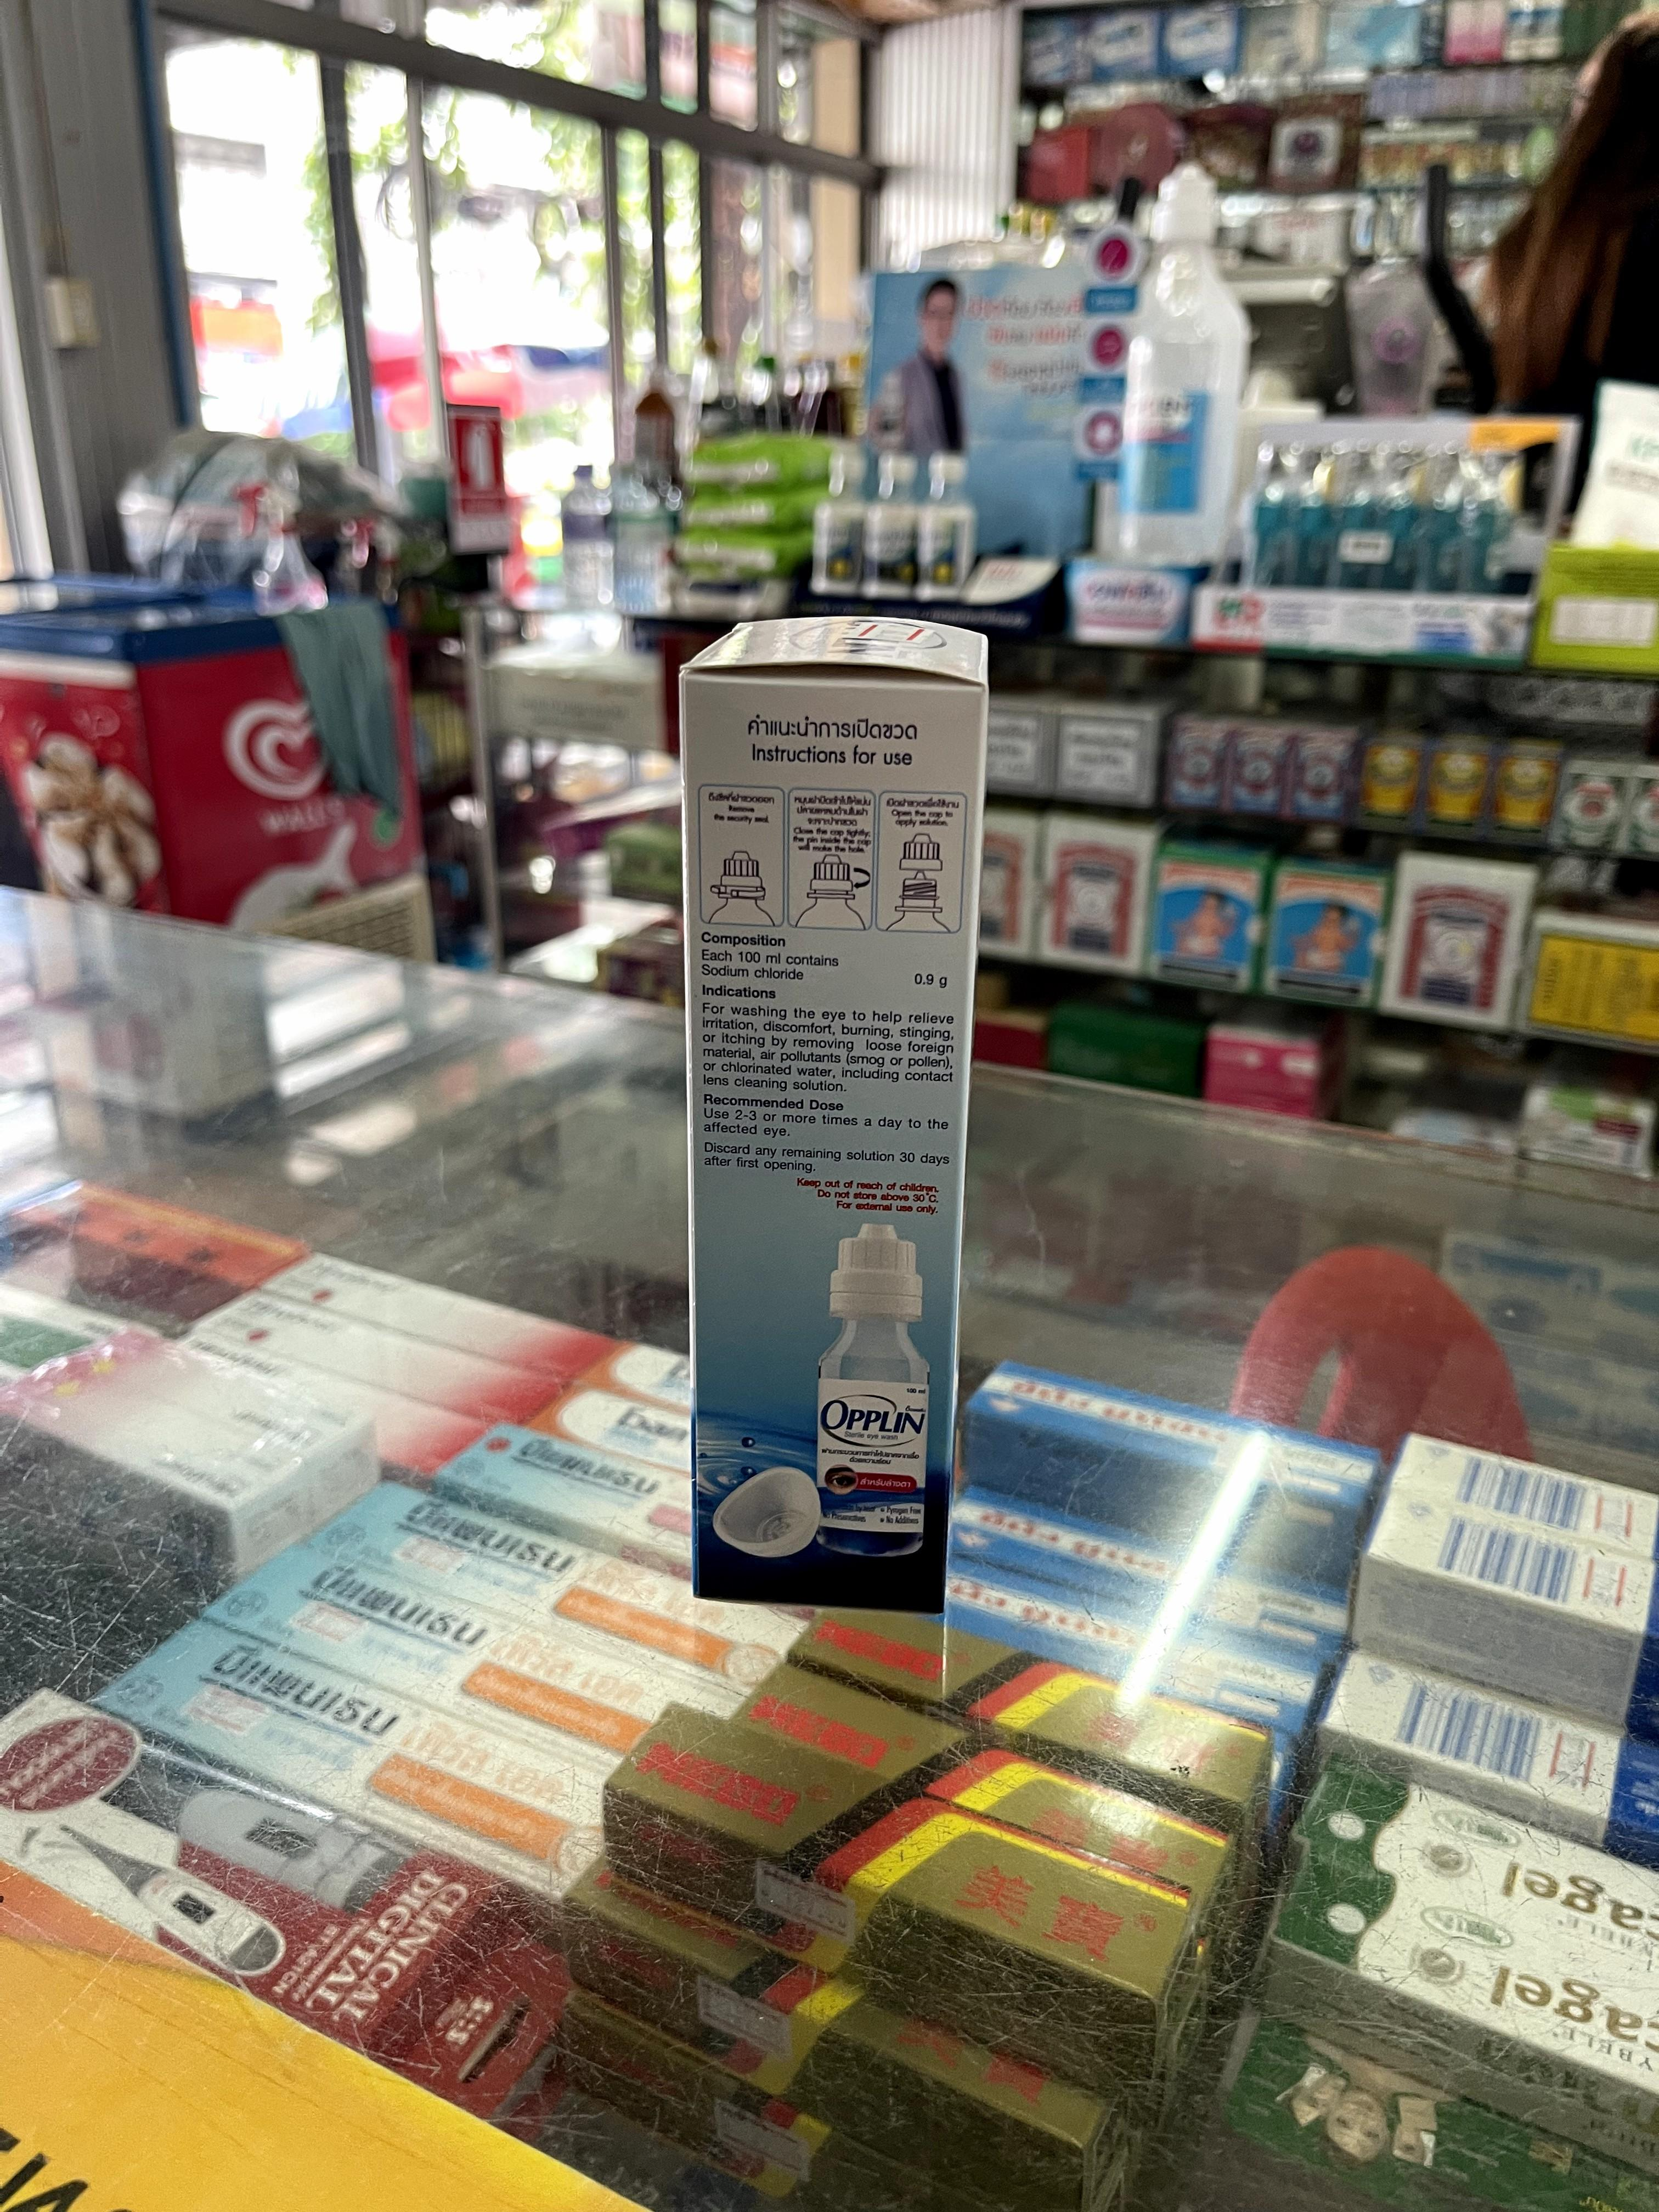Opplin: (680, 615, 988, 1616)
